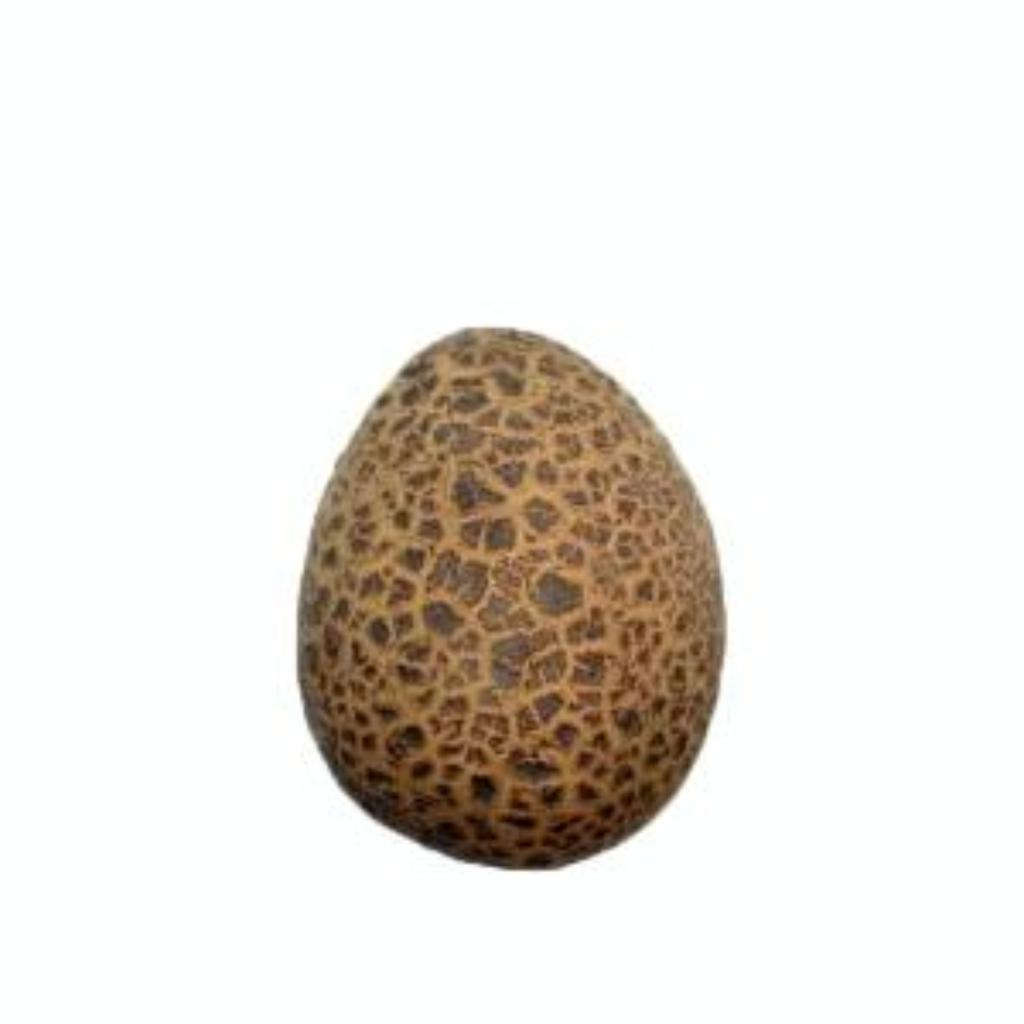cercospora_spot: (256, 304, 762, 898)
